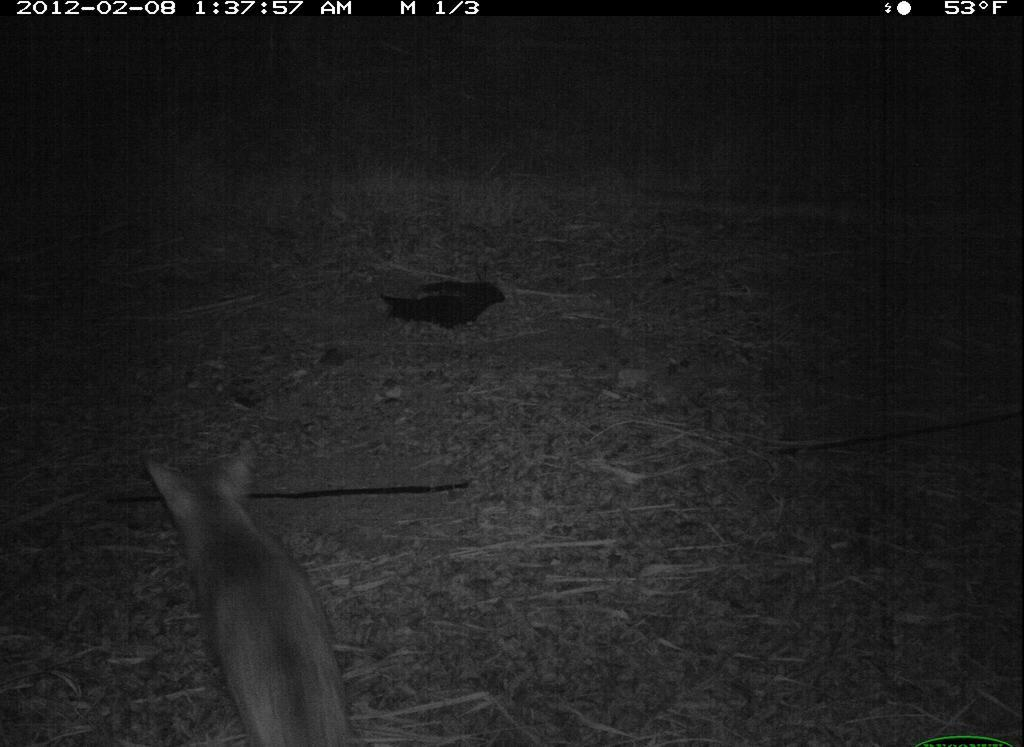coyote: (148, 440, 359, 747)
